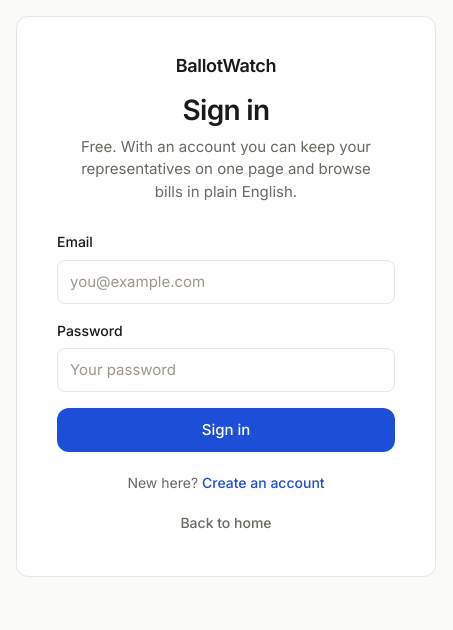
Auth: email and password › shows the error for a wrong password and stays on the page
The width and height of the screenshot is (453, 630).
In the field labelled "Email": (226, 282) [57,260,395,304], type "a@b.co"
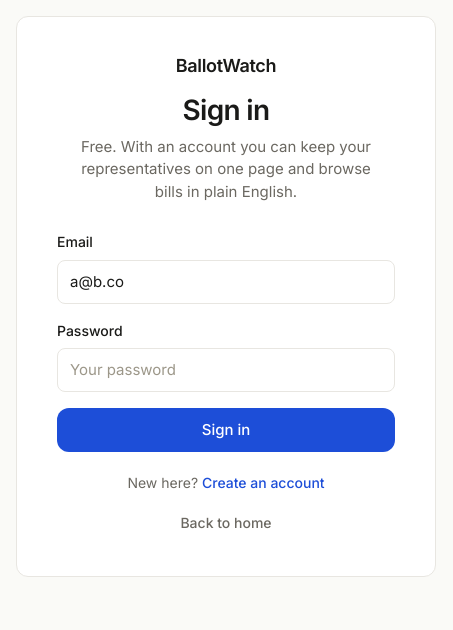
In the password field labelled "Password": (226, 370) [57,348,395,392], type "secret1"
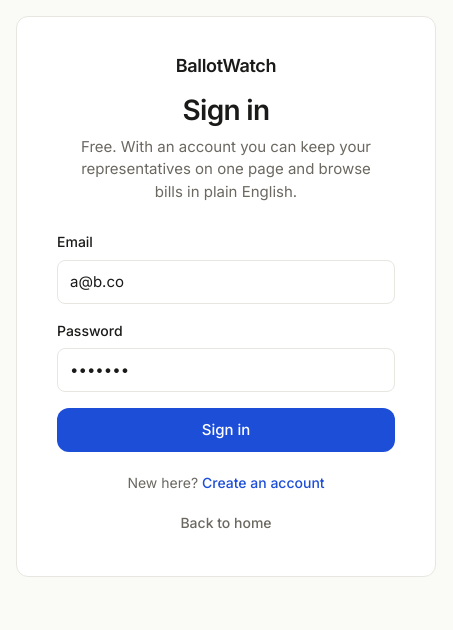
Submit the form, box [57,231,395,452]
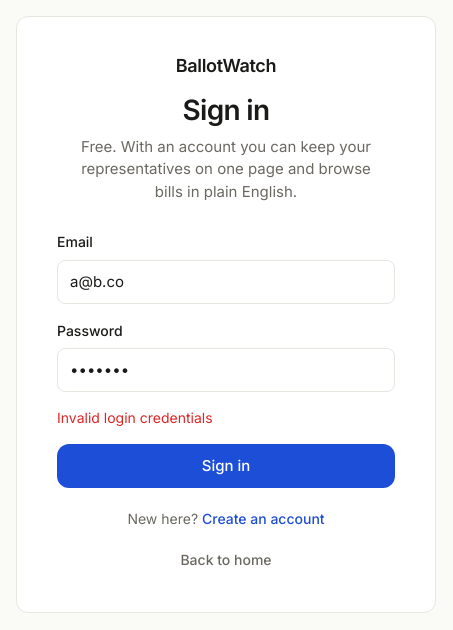
Expected: the button "Sign in" is enabled, [57,444,395,488]
Now the message reads "Invalid login credentials", box [57,409,213,426]
